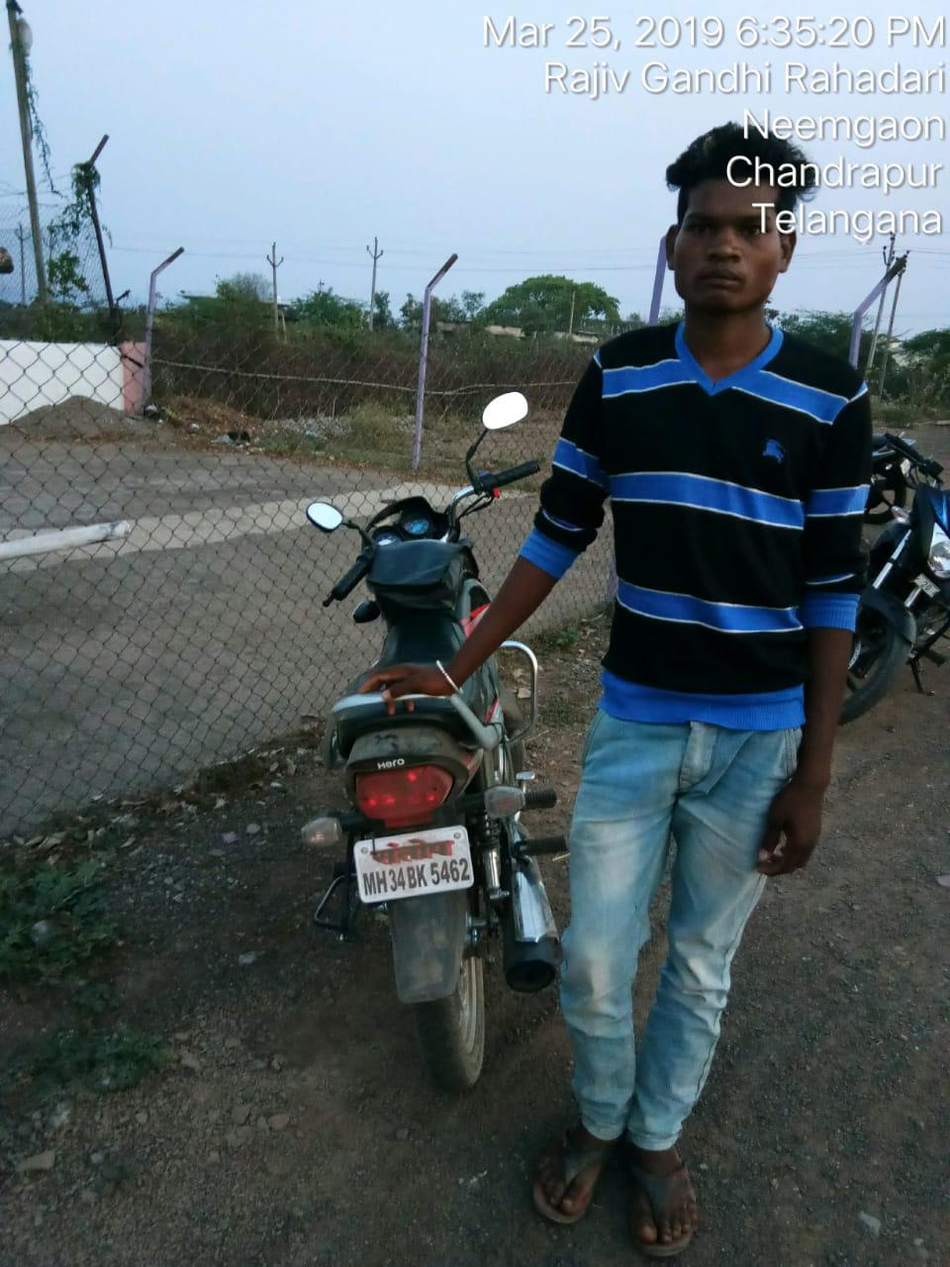plate: (322, 818, 501, 918)
